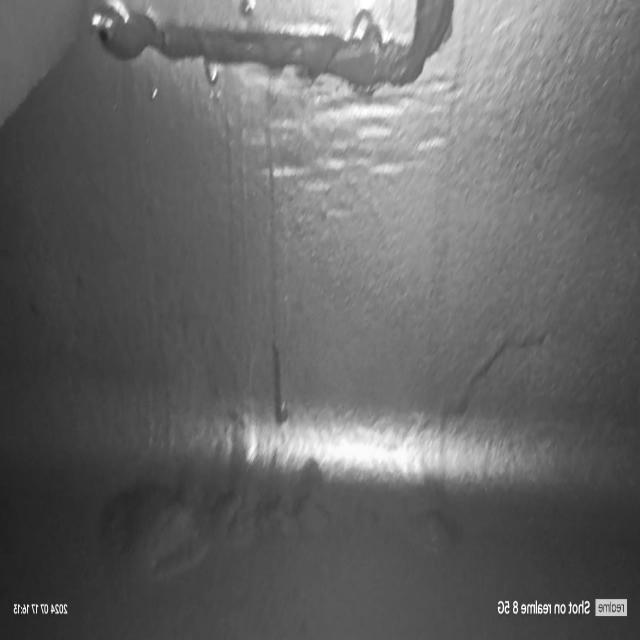paint drips: (432, 311, 552, 428), (263, 215, 295, 437), (194, 59, 223, 107), (239, 0, 261, 26)
